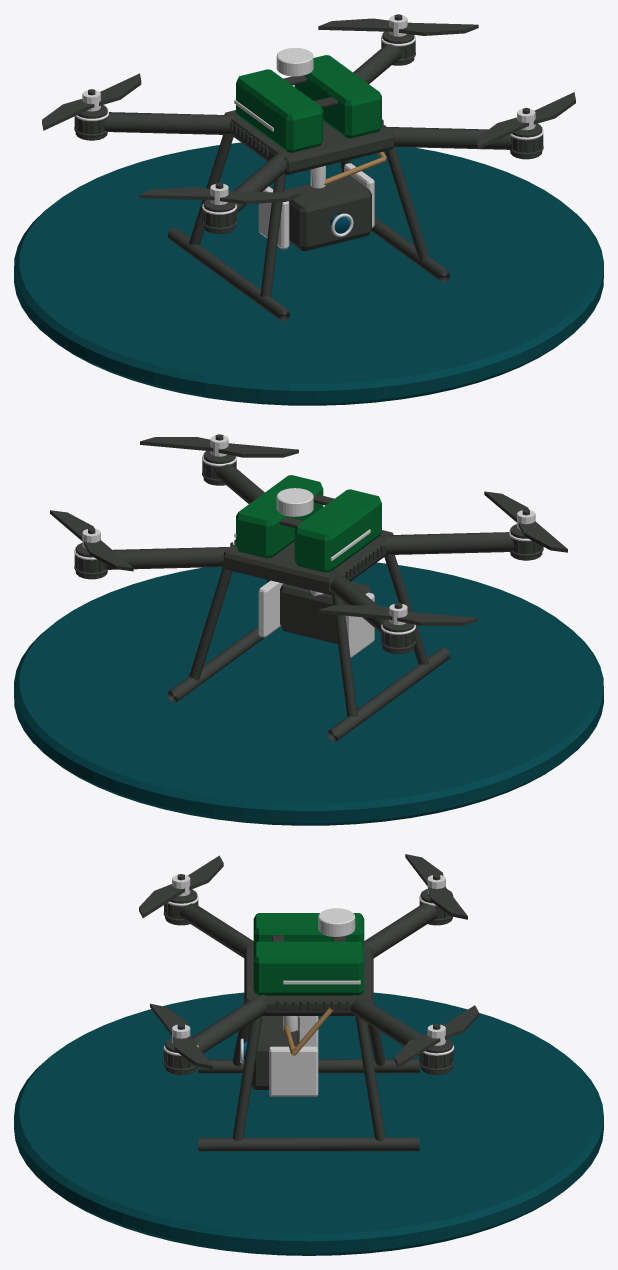
File: freefly-astro.glb
The picture shows the model from 3 angles, top to bottom: view 1: azimuth 30°, elevation 25°; view 2: azimuth 150°, elevation 25°; view 3: azimuth 270°, elevation 25°; orthographic projection.
Visible parts, largest first — view 1: pedestal, body; view 2: pedestal, body; view 3: pedestal, body.
Part boxes in pixels (x1,y1,x2,y2): pedestal: (14, 142, 603, 405); body: (42, 14, 575, 321); pedestal: (14, 562, 603, 825); body: (50, 434, 567, 741); pedestal: (14, 992, 603, 1255); body: (139, 854, 478, 1151).
Bounding box in the file's own units: 4.4 × 1.79 × 4.4.
